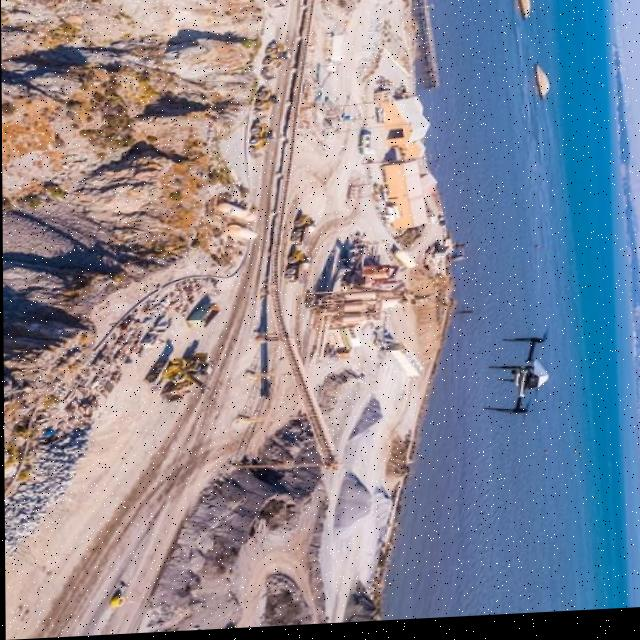drones: (481, 333, 563, 427)
